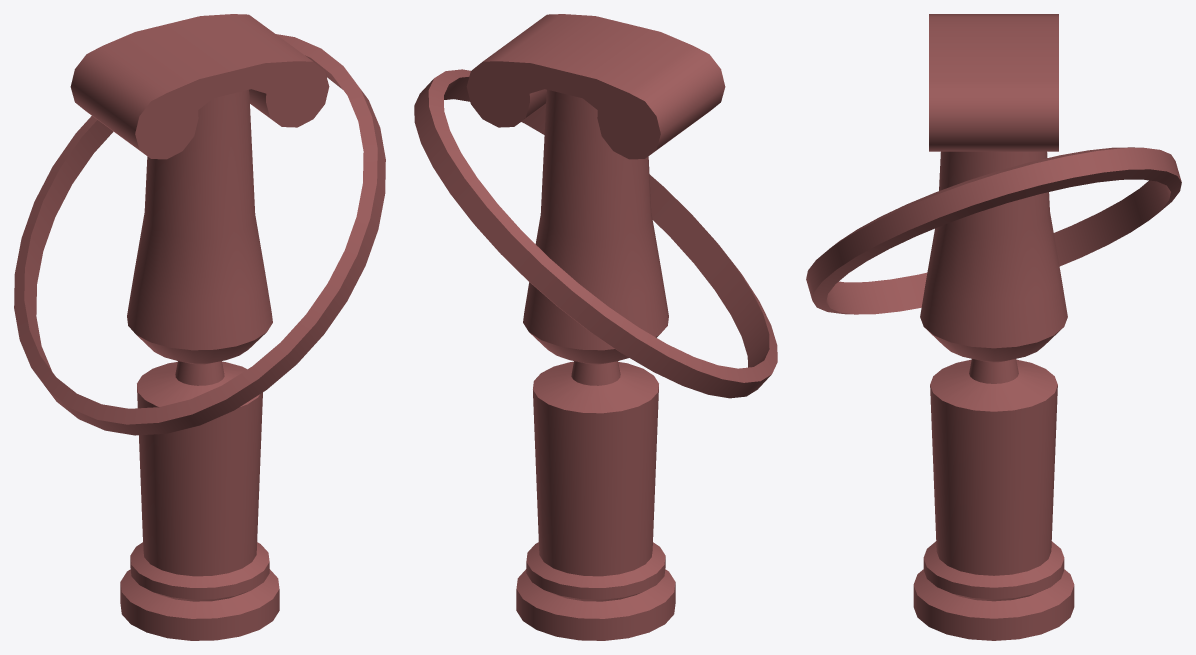
Rendered from Costum_colon1.fbx.
The picture shows the model from 3 angles, left to right: view 1: azimuth 30°, elevation 25°; view 2: azimuth 150°, elevation 25°; view 3: azimuth 270°, elevation 25°; orthographic projection.
Parts seen in each view (by area): view 1: Colonnabig; view 2: Colonnabig; view 3: Colonnabig.
Part boxes in pixels (box(x1,y1,x2,y2)): Colonnabig: box(14, 14, 385, 640); Colonnabig: box(414, 14, 777, 640); Colonnabig: box(806, 14, 1181, 640).
Bounding box in the file's own units: 2.17 × 3.67 × 2.22.
